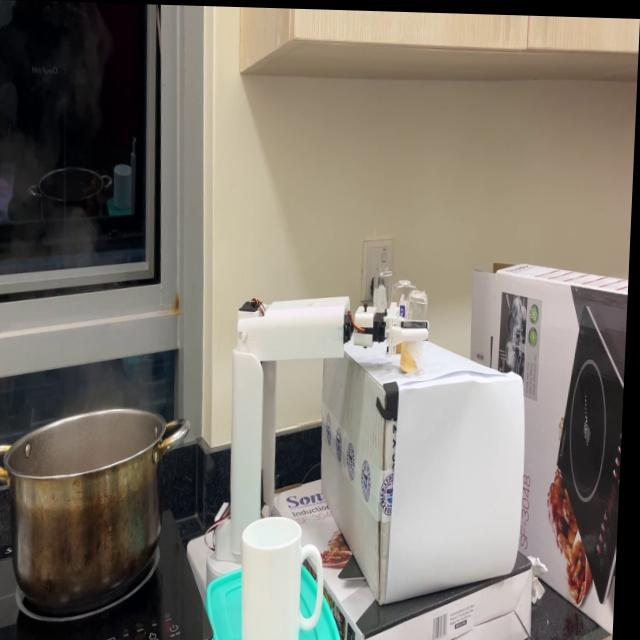cooking_pot: (0, 400, 194, 609)
garlic_powder: (402, 343, 425, 371)
